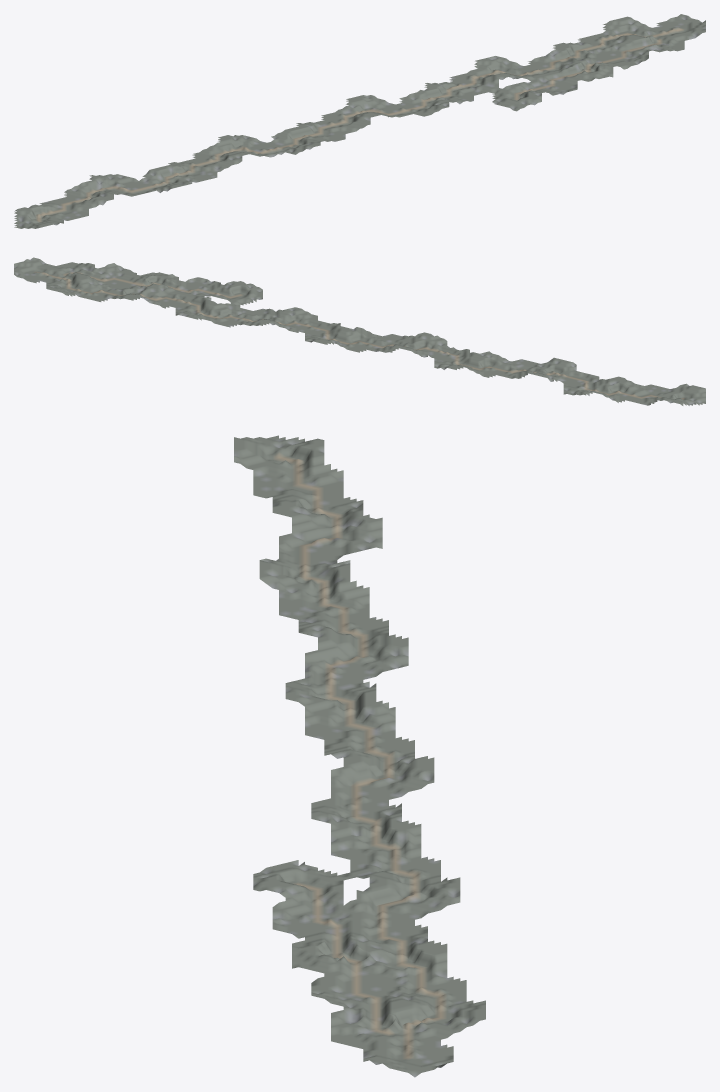
Rendered from terrain.glb.
The picture shows the model from 3 angles, top to bottom: view 1: azimuth 30°, elevation 25°; view 2: azimuth 150°, elevation 25°; view 3: azimuth 270°, elevation 25°; orthographic projection. The views are drawn at different scales.
Parts seen in each view (by area): view 1: NATURAL_14_-2, NATURAL_3_-1, NATURAL_15_-2, NATURAL_2_-1, NATURAL_9_-2, NATURAL_13_-2, NATURAL_11_-2, NATURAL_12_-1, NATURAL_12_-2, NATURAL_16_-2, NATURAL_4_-1, NATURAL_1_-1 (+15 smaller); view 2: NATURAL_15_-2, NATURAL_1_-1, NATURAL_6_-1, NATURAL_12_-2, NATURAL_16_-2, NATURAL_11_-1, NATURAL_13_-2, NATURAL_11_-2, NATURAL_2_-1, NATURAL_14_-2, NATURAL_4_-1, NATURAL_3_-1 (+19 smaller); view 3: NATURAL_12_-2, NATURAL_14_-2, NATURAL_2_-1, NATURAL_15_-2, NATURAL_9_-2, NATURAL_12_-1, NATURAL_3_-1, NATURAL_13_-2, NATURAL_11_-2, NATURAL_16_-2, NATURAL_4_-1, NATURAL_6_-1 (+18 smaller).
Boxes of the visible parts, bbox=[...] form: NATURAL_14_-2: bbox=[553, 43, 637, 63]; NATURAL_3_-1: bbox=[125, 164, 209, 187]; NATURAL_15_-2: bbox=[596, 31, 680, 52]; NATURAL_2_-1: bbox=[82, 177, 163, 196]; NATURAL_9_-2: bbox=[346, 95, 423, 114]; NATURAL_13_-2: bbox=[510, 49, 593, 73]; NATURAL_11_-2: bbox=[432, 75, 501, 95]; NATURAL_12_-1: bbox=[517, 73, 580, 93]; NATURAL_12_-2: bbox=[467, 62, 552, 79]; NATURAL_16_-2: bbox=[639, 22, 705, 43]; NATURAL_4_-1: bbox=[171, 158, 241, 179]; NATURAL_1_-1: bbox=[47, 186, 113, 210]; NATURAL_15_-2: bbox=[62, 266, 101, 294]; NATURAL_1_-1: bbox=[605, 377, 644, 404]; NATURAL_6_-1: bbox=[411, 332, 450, 360]; NATURAL_12_-2: bbox=[179, 293, 217, 322]; NATURAL_16_-2: bbox=[23, 257, 62, 283]; NATURAL_11_-1: bbox=[217, 282, 256, 313]; NATURAL_13_-2: bbox=[140, 283, 178, 311]; NATURAL_11_-2: bbox=[217, 303, 256, 326]; NATURAL_2_-1: bbox=[567, 367, 605, 395]; NATURAL_14_-2: bbox=[101, 274, 139, 298]; NATURAL_4_-1: bbox=[489, 351, 527, 375]; NATURAL_3_-1: bbox=[528, 360, 566, 387]; NATURAL_12_-2: bbox=[356, 874, 434, 928]; NATURAL_14_-2: bbox=[356, 940, 434, 1003]; NATURAL_2_-1: bbox=[279, 508, 356, 567]; NATURAL_15_-2: bbox=[356, 987, 434, 1044]; NATURAL_9_-2: bbox=[356, 756, 434, 816]; NATURAL_12_-1: bbox=[279, 890, 356, 940]; NATURAL_3_-1: bbox=[279, 549, 356, 608]; NATURAL_13_-2: bbox=[356, 909, 434, 968]; NATURAL_11_-2: bbox=[356, 833, 434, 883]; NATURAL_16_-2: bbox=[356, 1022, 434, 1067]; NATURAL_4_-1: bbox=[279, 580, 356, 632]; NATURAL_6_-1: bbox=[285, 666, 356, 711].
Size of the model in its own units: 382 by 2.9 by 63.18.
